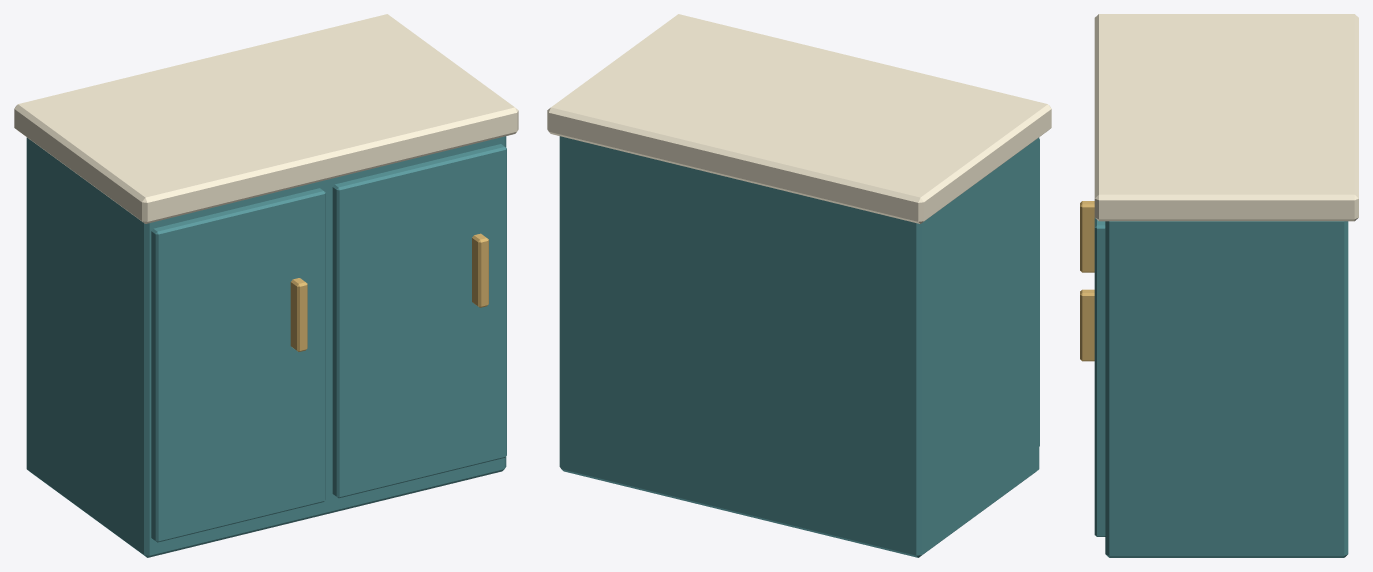
The model's file is SM_CH_Paper_Cabinet.fbx.
3 renders of one model, left to right at view 1: azimuth 30°, elevation 25°; view 2: azimuth 150°, elevation 25°; view 3: azimuth 270°, elevation 25°, orthographic.
Visible parts, largest first — view 1: SM_CH_Paper_Cabinet; view 2: SM_CH_Paper_Cabinet; view 3: SM_CH_Paper_Cabinet.
Part boxes in pixels (x1=…): SM_CH_Paper_Cabinet: x1=14, y1=14, x2=518, y2=557; SM_CH_Paper_Cabinet: x1=547, y1=14, x2=1051, y2=557; SM_CH_Paper_Cabinet: x1=1080, y1=14, x2=1358, y2=557.
Size of the model in its own units: 10400 by 6650 by 9650.
